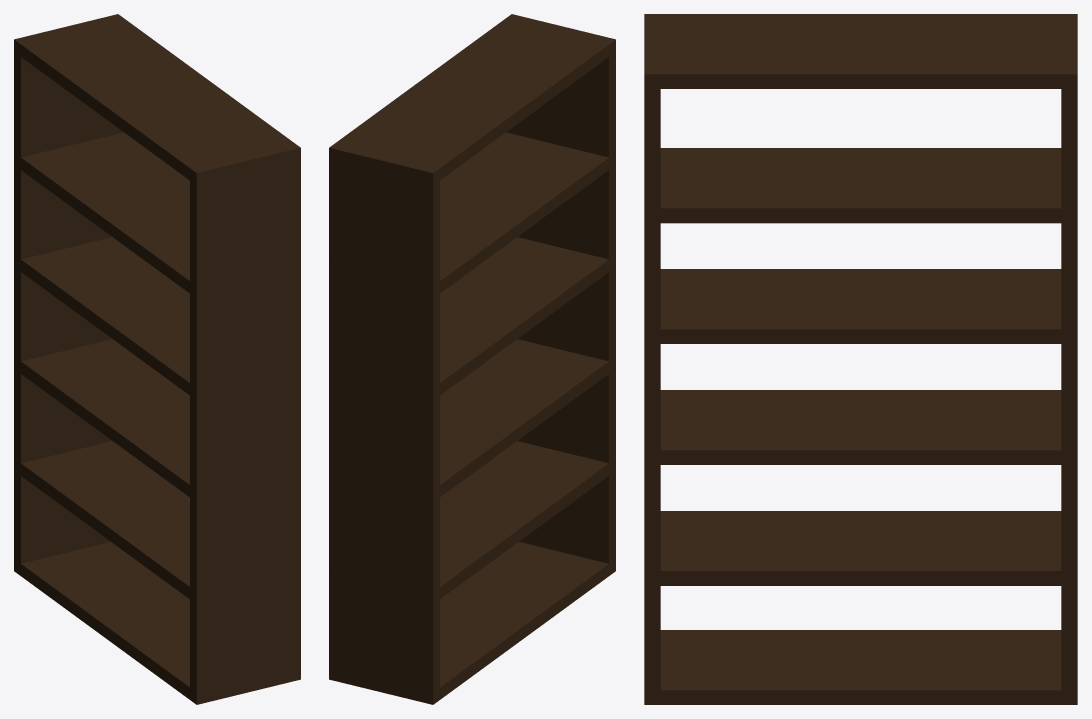
File: BookShelf.FBX
3 views of the same model, side by side, from view 1: azimuth 30°, elevation 25°; view 2: azimuth 150°, elevation 25°; view 3: azimuth 270°, elevation 25° (orthographic). The views are drawn at different scales.
Visible parts, largest first — view 1: Plane003; view 2: Plane003; view 3: Plane003.
Boxes of the visible parts, x1,y1,x2,y2 form: Plane003: (14,14,300,704); Plane003: (329,14,615,704); Plane003: (644,14,1077,704).
Size of the model in its own units: 14.69 by 71.69 by 44.65.
